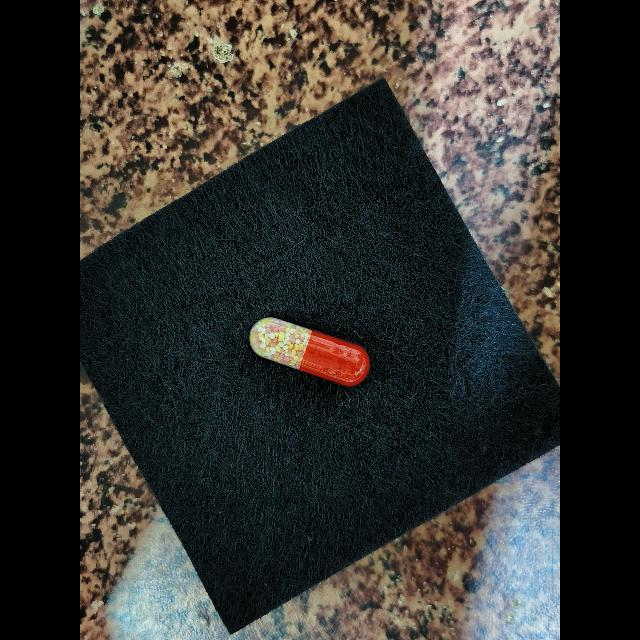Intact Capsule: (249, 317, 370, 386)
